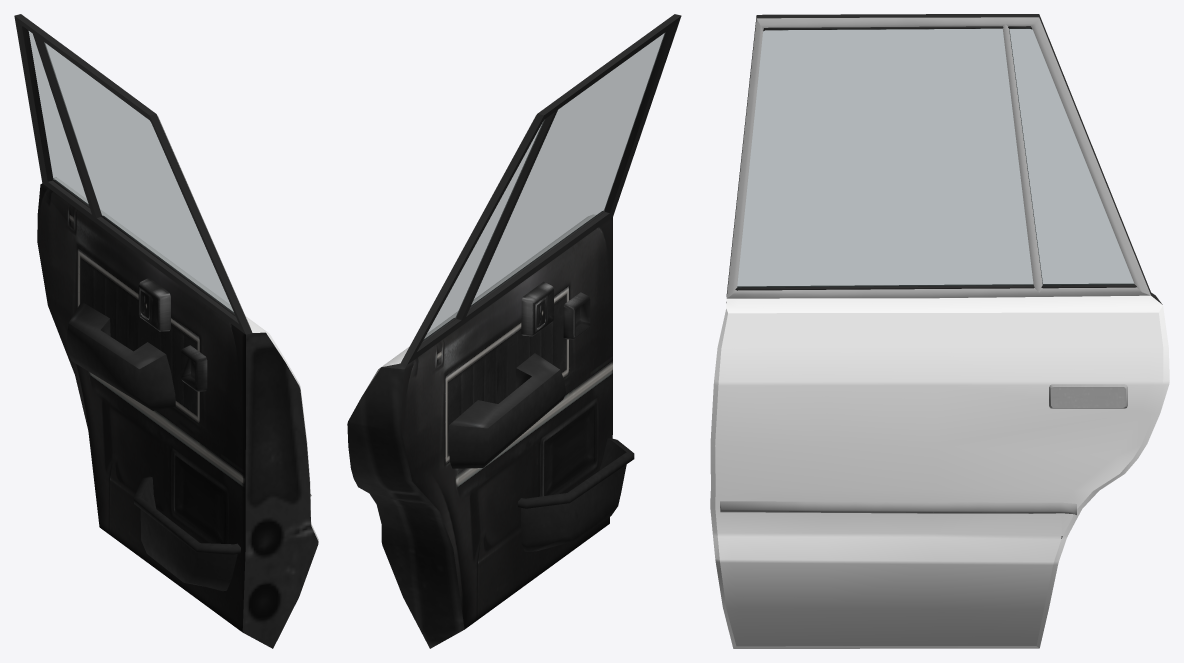
File: DoorRR.obj
The picture shows the model from 3 angles, left to right: view 1: azimuth 30°, elevation 25°; view 2: azimuth 150°, elevation 25°; view 3: azimuth 270°, elevation 25°; orthographic projection. The views are drawn at different scales.
Visible parts, largest first — view 1: Door_RL; view 2: Door_RL; view 3: Door_RL.
Part boxes in pixels (x1,y1,x2,y2): Door_RL: [14, 14, 318, 648]; Door_RL: [347, 14, 681, 648]; Door_RL: [710, 14, 1169, 648].
Bounding box in the file's own units: 6.07 × 21.17 × 15.26.
